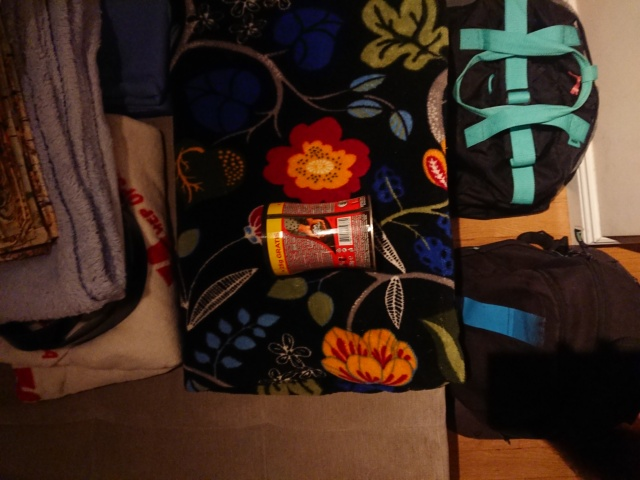Nescafe Classic 225g: (258, 192, 380, 280)
